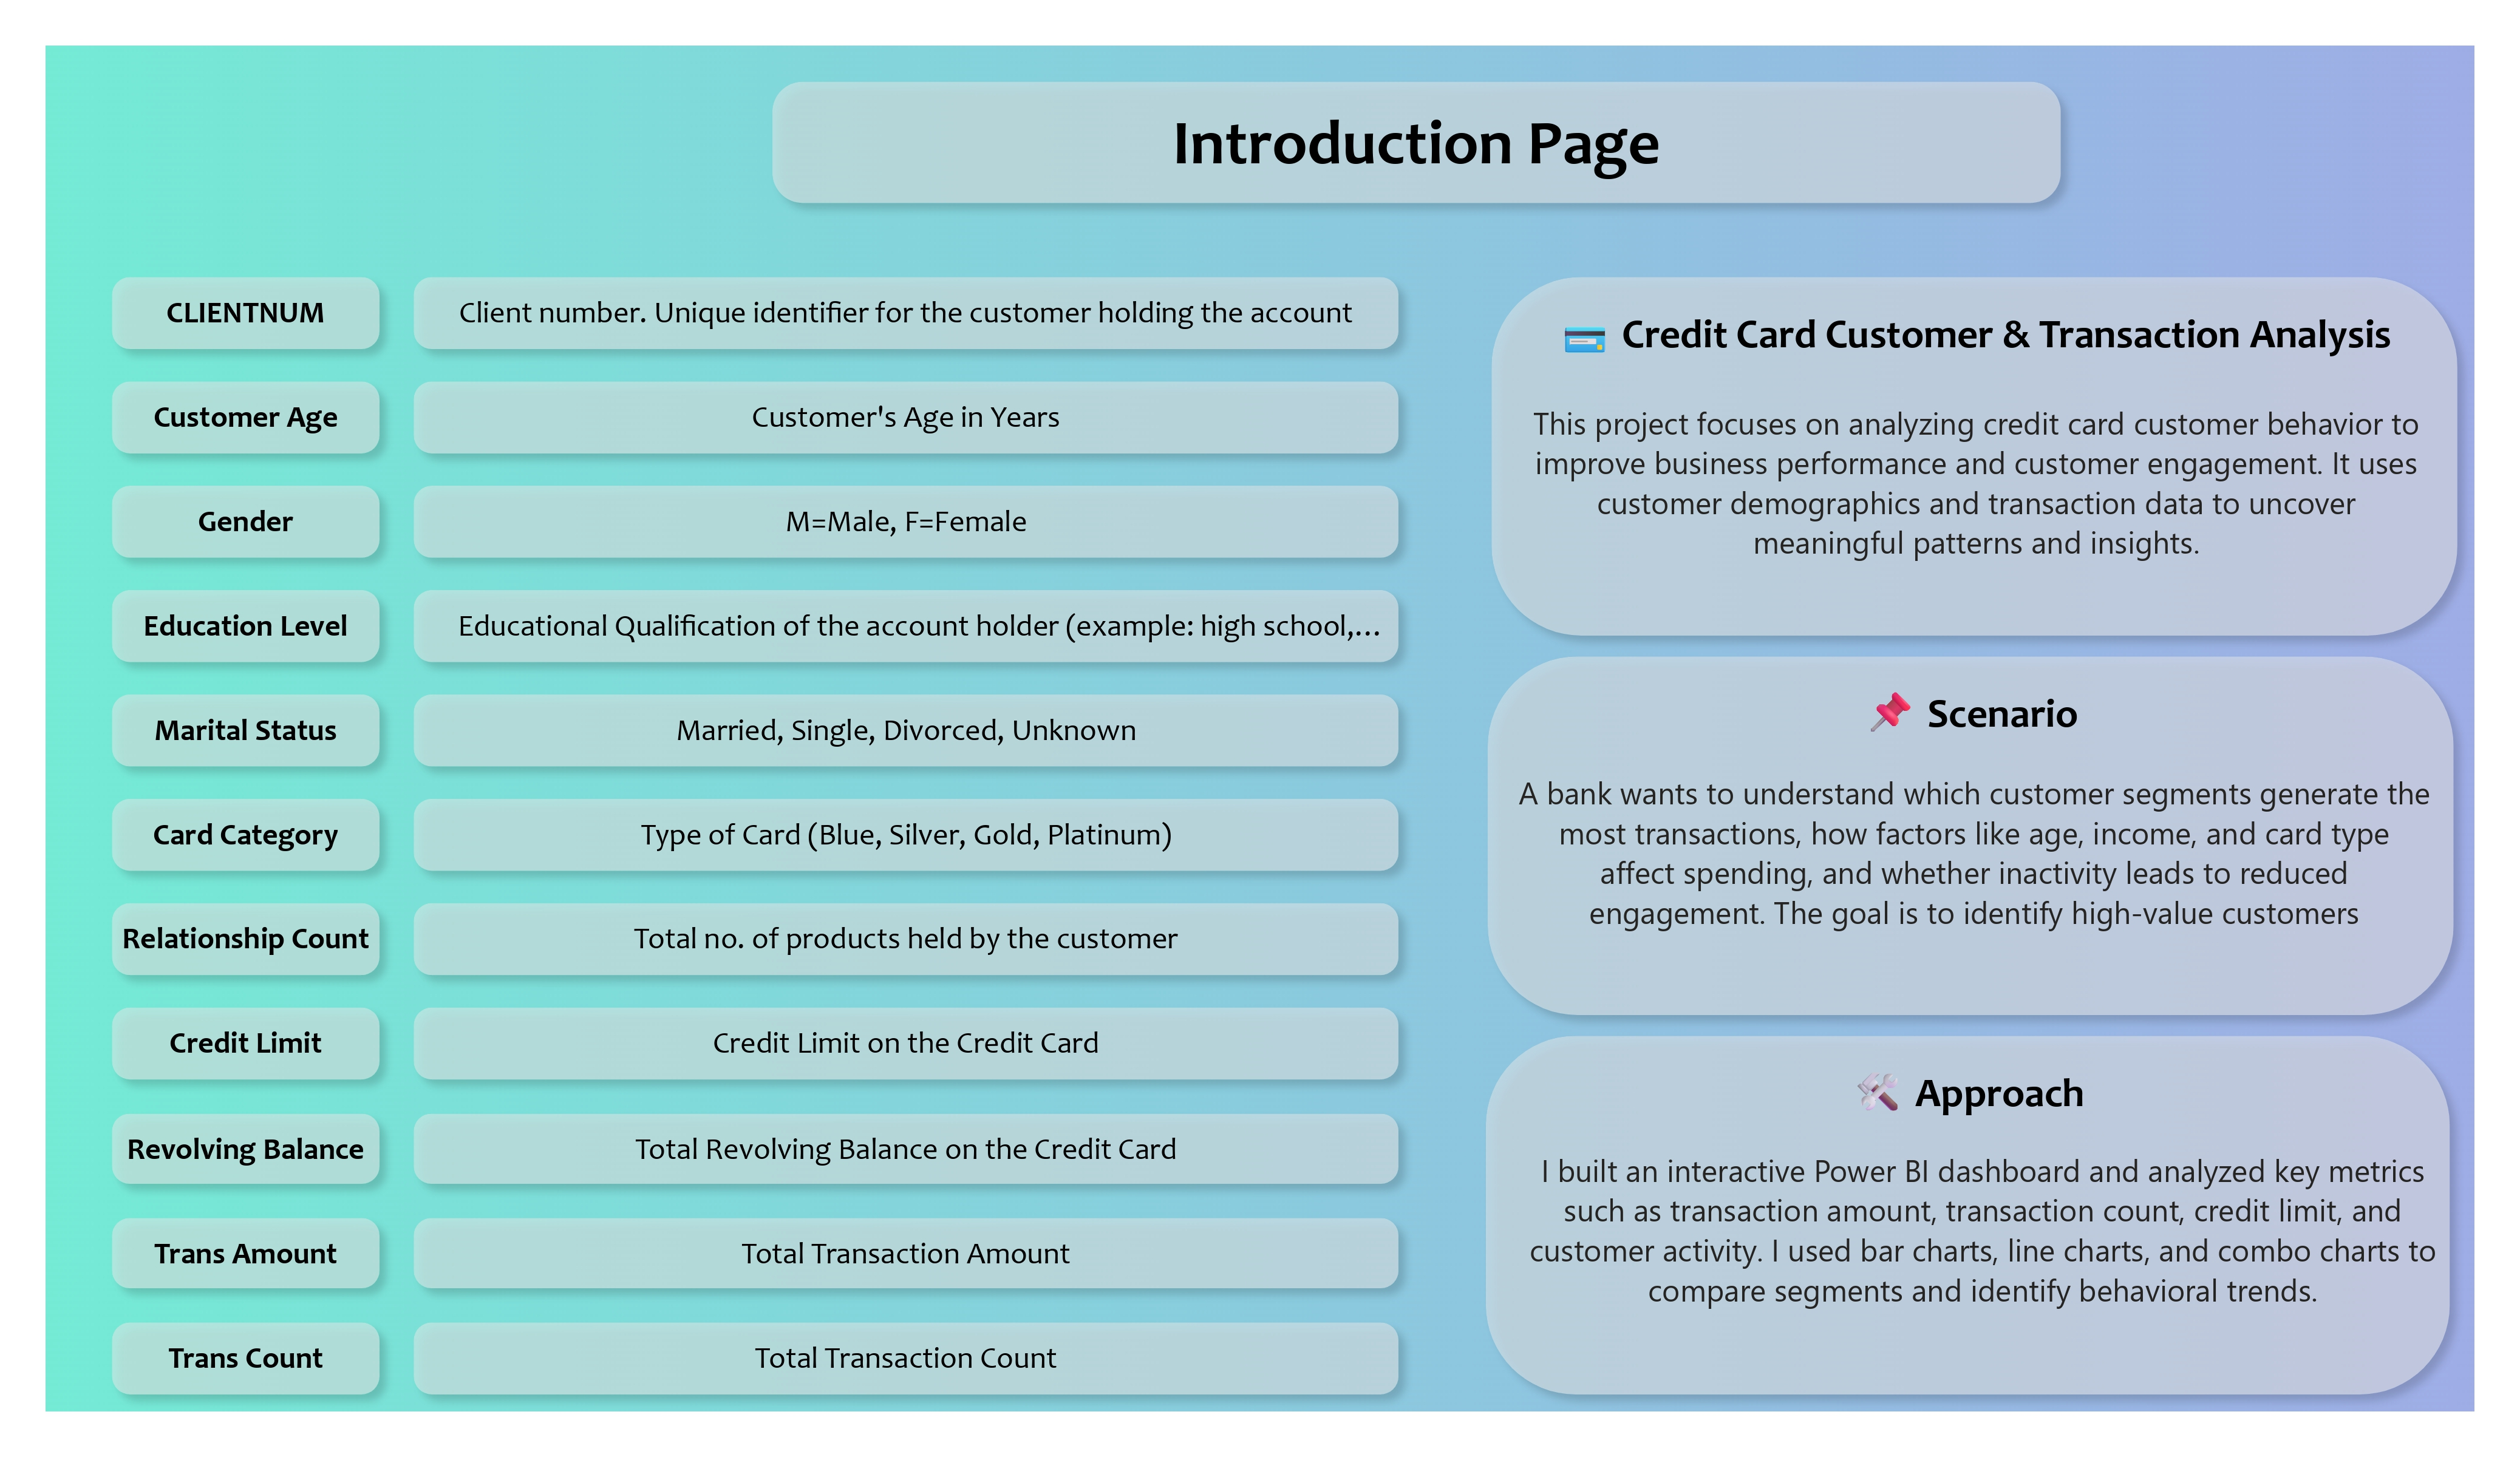

What the dashboard file says about the page in this screenshot:
{"tool":"powerbi","page":{"name":"Introduction page","canvas":[1280,720],"ordinal":0},"visuals":[{"type":"shape","box":[374.4,10.5,696.5,81.4],"z":0},{"type":"shape","box":[25.5,112.8,159.3,55.8],"z":1000},{"type":"shape","box":[184.8,112.8,537.2,55.8],"z":2000},{"type":"shape","box":[25.5,167.9,159.3,55.8],"z":3000},{"type":"shape","box":[184.8,167.9,537.2,55.8],"z":4000},{"type":"shape","box":[25.5,223,159.3,55.8],"z":5000},{"type":"shape","box":[184.8,223,537.2,55.8],"z":6000},{"type":"shape","box":[25.5,278.1,159.3,55.8],"z":7000},{"type":"shape","box":[184.8,278.1,537.2,55.8],"z":8000},{"type":"shape","box":[25.5,333.2,159.3,55.8],"z":9000},{"type":"shape","box":[184.8,333.2,537.2,55.8],"z":10000},{"type":"shape","box":[25.5,388.2,159.3,55.8],"z":11000},{"type":"shape","box":[184.8,388.2,537.2,55.8],"z":12000},{"type":"shape","box":[25.5,443.3,159.3,55.8],"z":13000},{"type":"shape","box":[184.8,443.3,537.2,55.8],"z":14000},{"type":"shape","box":[25.5,498.4,159.3,55.8],"z":15000},{"type":"shape","box":[184.8,498.4,537.2,55.8],"z":16000},{"type":"shape","box":[25.5,553.5,159.3,55.8],"z":17000},{"type":"shape","box":[184.8,553.5,537.2,55.8],"z":18000},{"type":"shape","box":[25.5,608.6,159.3,55.8],"z":19000},{"type":"shape","box":[184.8,608.6,537.2,55.8],"z":20000},{"type":"shape","box":[25.5,663.7,159.3,55.8],"z":21000},{"type":"shape","box":[184.8,663.7,537.2,55.8],"z":22000},{"type":"shape","box":[753.5,112.8,526.7,207],"z":23000},{"type":"textbox","box":[772.1,182.6,490.7,100],"z":24000},{"type":"shape","box":[751.2,312.8,526.7,207],"z":25000},{"type":"textbox","box":[770.9,377.9,490.7,100],"z":26000},{"type":"shape","box":[749.5,513,526.7,207],"z":27000},{"type":"textbox","box":[775.6,576.7,490.7,100],"z":28000}]}

Visuals, with their boxes on the page's 1280x720 design canvas (x1, y1, x2, y2). These are canvas units, not pixel positions in the 2520x1457 screenshot, which may show the page scaled, cropped or inside an application window:
shape: [374,10,1071,92]
shape: [26,113,185,169]
shape: [185,113,722,169]
shape: [26,168,185,224]
shape: [185,168,722,224]
shape: [26,223,185,279]
shape: [185,223,722,279]
shape: [26,278,185,334]
shape: [185,278,722,334]
shape: [26,333,185,389]
shape: [185,333,722,389]
shape: [26,388,185,444]
shape: [185,388,722,444]
shape: [26,443,185,499]
shape: [185,443,722,499]
shape: [26,498,185,554]
shape: [185,498,722,554]
shape: [26,554,185,609]
shape: [185,554,722,609]
shape: [26,609,185,664]
shape: [185,609,722,664]
shape: [26,664,185,720]
shape: [185,664,722,720]
shape: [754,113,1280,320]
textbox: [772,183,1263,283]
shape: [751,313,1278,520]
textbox: [771,378,1262,478]
shape: [750,513,1276,720]
textbox: [776,577,1266,677]
